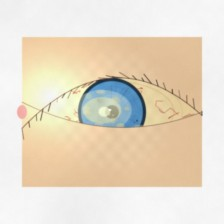corneal_ulcer: (71, 86, 133, 135)
